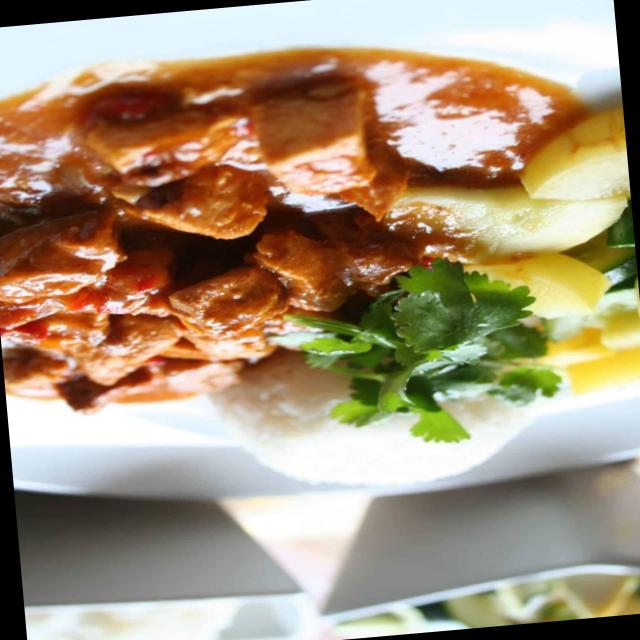chicken: (0, 71, 330, 396), (212, 45, 531, 274)
